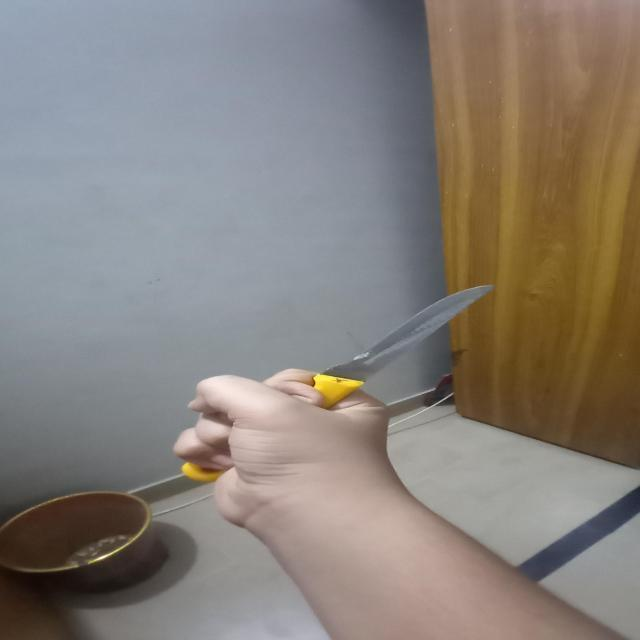knife: (159, 279, 495, 480)
